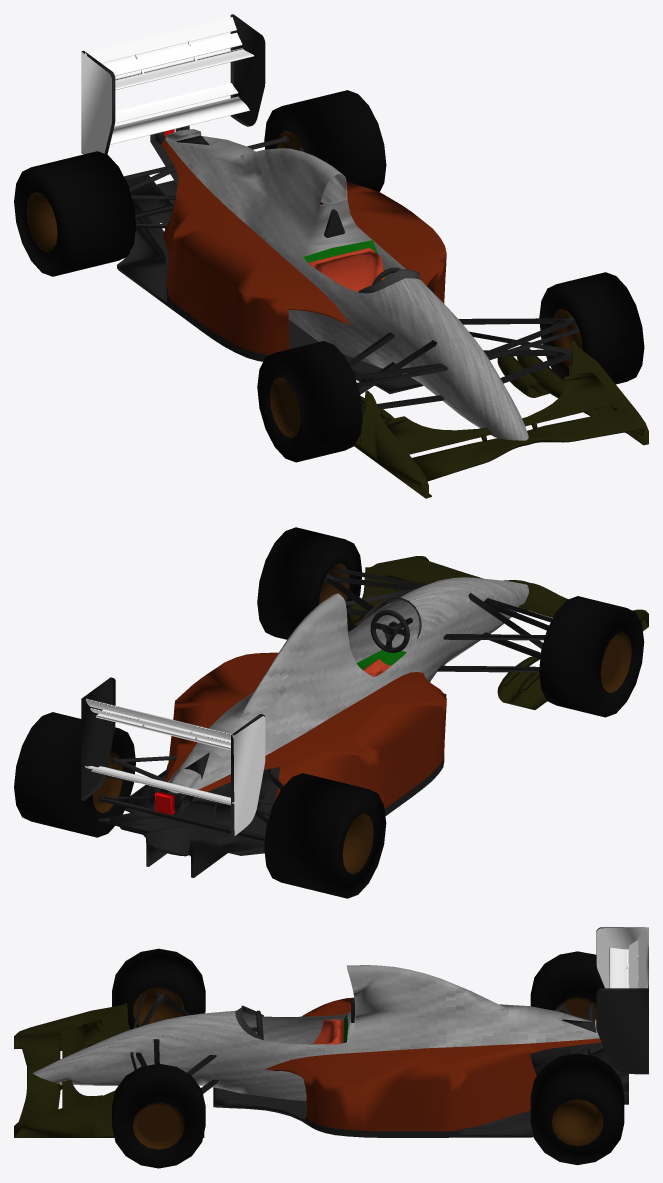
File: formula.obj
3 views of the same model, one above another, from view 1: azimuth 30°, elevation 25°; view 2: azimuth 150°, elevation 25°; view 3: azimuth 270°, elevation 25° (orthographic). The views are drawn at different scales.
Parts seen in each view (by area): view 1: (null); view 2: (null); view 3: (null).
Part boxes in pixels (x1,y1,x2,y2): (null): [14, 14, 648, 498]; (null): [14, 527, 648, 898]; (null): [14, 927, 648, 1168].
Bounding box in the file's own units: 4347 × 2140 × 8641.
Materials: 21 (3 with a texture image).
